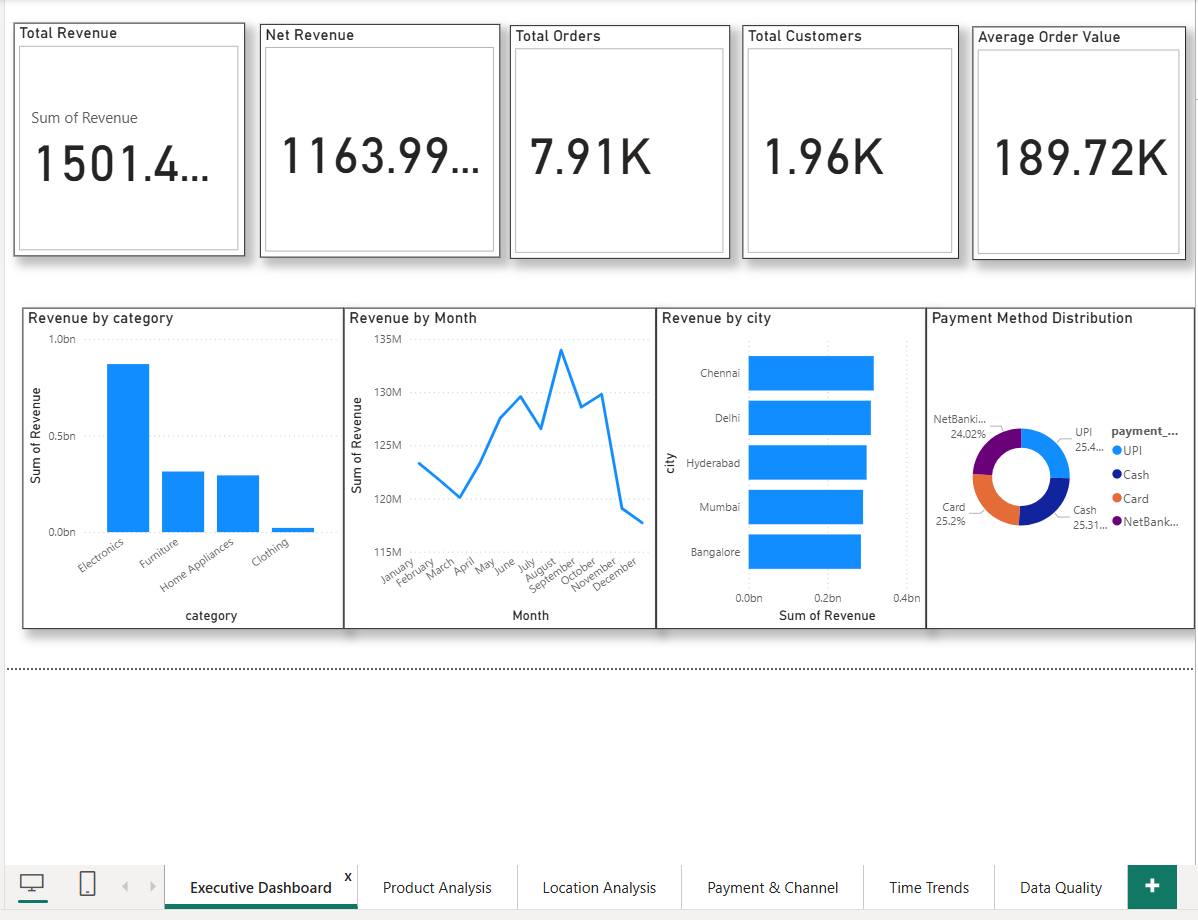

The page's visual inventory and layout, read from the dashboard file:
{"tool":"powerbi","page":{"name":"Executive Dashboard","canvas":[1280,720],"ordinal":0},"visuals":[{"type":"cardVisual","title":"Net Revenue","fields":{"Data":["Sum(retail_master_curated.Net_Revenue)"]},"box":[274.3,26.9,258.2,251.5],"z":0},{"type":"cardVisual","title":"Average Order Value","fields":{"Data":["Avg(retail_master_curated.Revenue)"]},"box":[1040.9,29.6,230,251.5],"z":1000},{"type":"cardVisual","title":"Total Orders","fields":{"Data":["CountNonNull(retail_master_curated.transaction_id)"]},"box":[543.3,28.2,236.7,251.5],"z":2000},{"type":"cardVisual","title":"Total Customers","fields":{"Data":["Count(retail_master_curated.customer_id)"]},"box":[793.4,28.2,232.7,251.5],"z":3000},{"type":"cardVisual","title":"Total Revenue","fields":{"Data":["Sum(retail_master_curated.Revenue)"]},"box":[9.4,25.6,248.8,251.5],"z":4000},{"type":"clusteredColumnChart","title":"Revenue by category","fields":{"Category":["retail_master_curated.category"],"Y":["Sum(retail_master_curated.Revenue)"]},"box":[18.8,332.2,345.6,345.6],"z":5000},{"type":"lineChart","title":"Revenue by Month","fields":{"Y":["Sum(retail_master_curated.Revenue)"],"Category":["retail_master_curated.transaction_date.Variation.Date Hierarchy.Month"]},"box":[364.4,332.2,336.2,345.6],"z":6000},{"type":"clusteredBarChart","title":"Revenue by city","fields":{"Category":["retail_master_curated.city"],"Y":["Sum(retail_master_curated.Revenue)"]},"box":[700.7,332.2,290.5,345.6],"z":7000},{"type":"donutChart","title":"Payment Method Distribution","fields":{"Category":["retail_master_curated.payment_method"],"Y":["Count(retail_master_curated.transaction_id)"]},"box":[991.1,332.2,289.1,345.6],"z":8000}]}

Visuals, with their boxes in screenshot pixels (x1, y1, x2, y2):
"Net Revenue" cardVisual: x1=259 y1=22 x2=498 y2=254
"Average Order Value" cardVisual: x1=967 y1=24 x2=1179 y2=256
"Total Orders" cardVisual: x1=508 y1=23 x2=726 y2=255
"Total Customers" cardVisual: x1=739 y1=23 x2=953 y2=255
"Total Revenue" cardVisual: x1=15 y1=21 x2=245 y2=253
"Revenue by category" clusteredColumnChart: x1=24 y1=304 x2=343 y2=622
"Revenue by Month" lineChart: x1=343 y1=304 x2=653 y2=622
"Revenue by city" clusteredBarChart: x1=653 y1=304 x2=921 y2=622
"Payment Method Distribution" donutChart: x1=921 y1=304 x2=1188 y2=622
